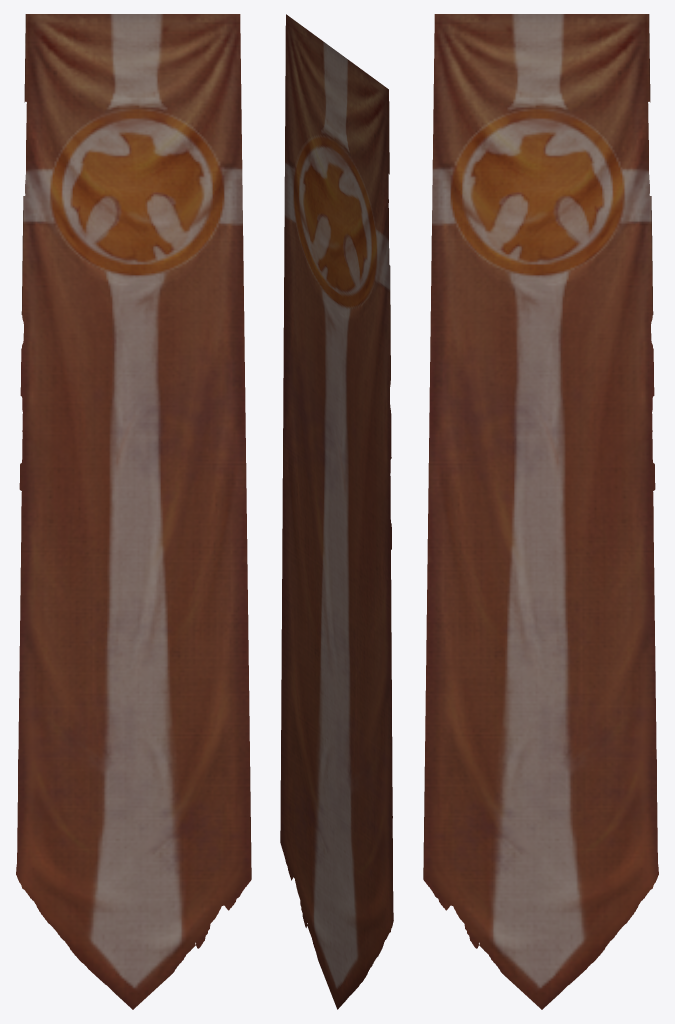
The model's file is zhucheng2_changqizi.FBX.
3 views of the same model, side by side, from view 1: azimuth 90°, elevation 25°; view 2: azimuth 210°, elevation 25°; view 3: azimuth 270°, elevation 25° (orthographic). The views are drawn at different scales.
Parts seen in each view (by area): view 1: zhucheng2_changqizi; view 2: zhucheng2_changqizi; view 3: zhucheng2_changqizi.
Boxes of the visible parts, <box> form: zhucheng2_changqizi: <box>16,14,251,1009</box>; zhucheng2_changqizi: <box>280,14,393,1009</box>; zhucheng2_changqizi: <box>423,14,658,1009</box>.
Bounding box in the file's own units: 7.63e-06 × 12.56 × 2.72.
